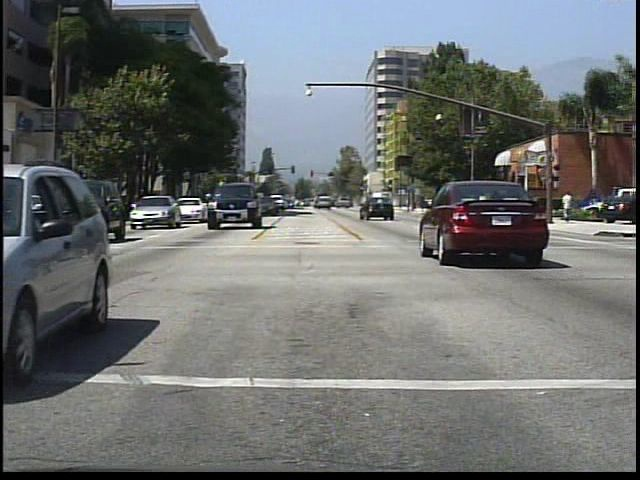person: (513, 190, 530, 227), (561, 189, 575, 225)
